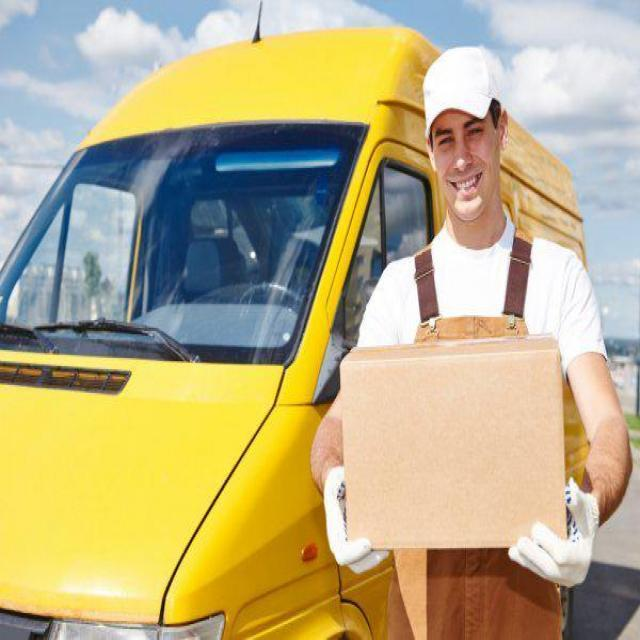box: (337, 328, 568, 562)
